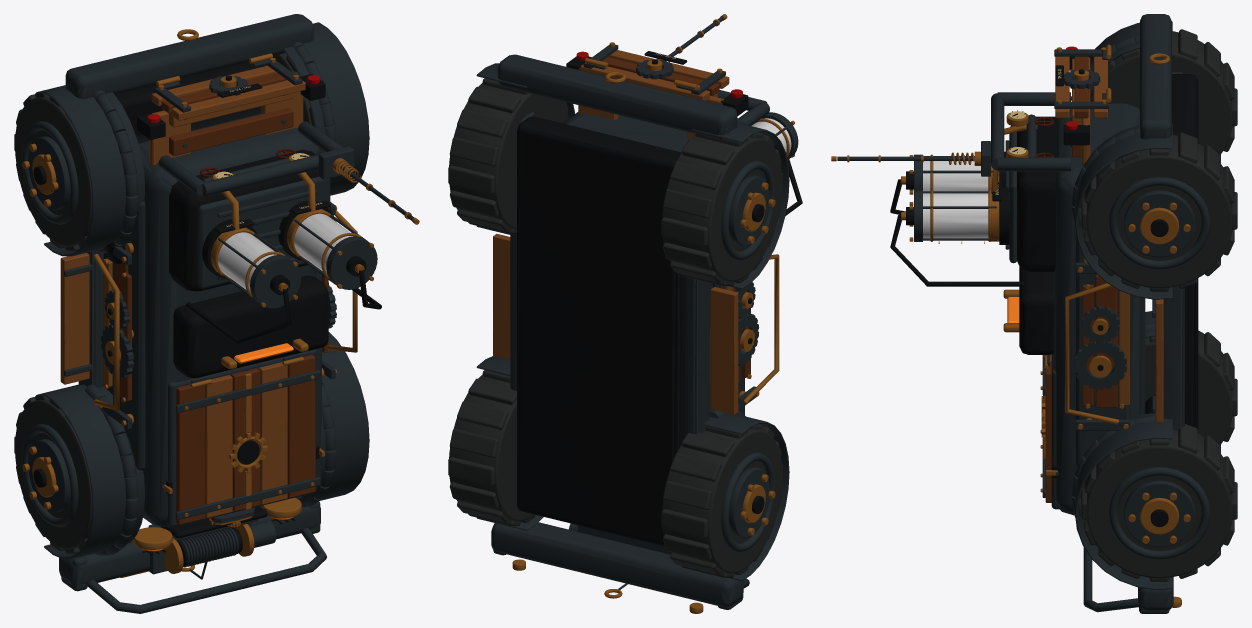
Rendered from IronTeethRcCar_V3.obj.
The picture shows the model from 3 angles, left to right: view 1: azimuth 30°, elevation 25°; view 2: azimuth 150°, elevation 25°; view 3: azimuth 270°, elevation 25°; orthographic projection. The views are drawn at different scales.
Visible parts, largest first — view 1: Armored_body_tub_Armored_body_tub_Mesh, Dashboard_cowl_Dashboard_cowl_Mesh, Rear_forged_bumper_Rear_forged_bumper_Mesh, V3_rolled_fender_V3_rolled_fender, V3_rolled_fender.001_V3_rolled_fender.001, V3_rolled_fender.003_V3_rolled_fender.003, V3_rolled_fender.002_V3_rolled_fender.002, Front_tyre_Front_tyre_Mesh, Rear_tyre_Rear_tyre_Mesh, Rear_gearbox_housing_Rear_gearbox_housing_Mesh, Side_armour_plate_Side_armour_plate_Mesh, Gearbox_top_plate_Gearbox_top_plate_Mesh (+46 smaller); view 2: Ladder_chassis_Ladder_chassis_Mesh, Front_forged_bumper_Front_forged_bumper_Mesh, Rear_forged_bumper_Rear_forged_bumper_Mesh, Rear_tyre_Rear_tyre_Mesh, Front_tyre_Front_tyre_Mesh, Rear_tyre.001_Rear_tyre_Mesh.001, Front_tyre.001_Front_tyre_Mesh.001, Frame_side_rail_Frame_side_rail_Mesh, V3_timber_running_board_Cube.037, Armored_body_tub_Armored_body_tub_Mesh, V3_timber_running_board.001_Cube.040, V3_rolled_fender_V3_rolled_fender (+41 smaller); view 3: Armored_body_tub_Armored_body_tub_Mesh, Rear_tyre.001_Rear_tyre_Mesh.001, Front_tyre.001_Front_tyre_Mesh.001, Rear_gearbox_housing_Rear_gearbox_housing_Mesh, Rear_tyre_Rear_tyre_Mesh, Rear_forged_bumper_Rear_forged_bumper_Mesh, Ladder_chassis_Ladder_chassis_Mesh, Front_tyre_Front_tyre_Mesh, V3_rolled_fender.002_V3_rolled_fender.002, V3_rolled_fender.003_V3_rolled_fender.003, Dashboard_cowl_Dashboard_cowl_Mesh, Frame_side_rail.001_Frame_side_rail_Mesh.001 (+31 smaller).
Part boxes in pixels (x1,y1,x2,y2): Armored_body_tub_Armored_body_tub_Mesh: (138, 112, 320, 526); Dashboard_cowl_Dashboard_cowl_Mesh: (173, 275, 328, 378); Rear_forged_bumper_Rear_forged_bumper_Mesh: (65, 14, 314, 98); V3_rolled_fender_V3_rolled_fender: (44, 384, 144, 558); V3_rolled_fender.001_V3_rolled_fender.001: (44, 86, 144, 256); V3_rolled_fender.003_V3_rolled_fender.003: (283, 22, 369, 195); V3_rolled_fender.002_V3_rolled_fender.002: (301, 332, 369, 505); Front_tyre_Front_tyre_Mesh: (15, 399, 92, 549); Rear_tyre_Rear_tyre_Mesh: (15, 97, 92, 246); Rear_gearbox_housing_Rear_gearbox_housing_Mesh: (169, 149, 330, 291); Side_armour_plate_Side_armour_plate_Mesh: (113, 202, 145, 470); Gearbox_top_plate_Gearbox_top_plate_Mesh: (198, 176, 330, 288); Ladder_chassis_Ladder_chassis_Mesh: (517, 116, 685, 546); Front_forged_bumper_Front_forged_bumper_Mesh: (491, 522, 743, 607); Rear_forged_bumper_Rear_forged_bumper_Mesh: (497, 54, 737, 139); Rear_tyre_Rear_tyre_Mesh: (662, 135, 782, 281); Front_tyre_Front_tyre_Mesh: (662, 429, 782, 573); Rear_tyre.001_Rear_tyre_Mesh.001: (449, 83, 568, 229); Front_tyre.001_Front_tyre_Mesh.001: (449, 375, 533, 521); Frame_side_rail_Frame_side_rail_Mesh: (685, 277, 709, 435); V3_timber_running_board_Cube.037: (710, 287, 738, 414); Armored_body_tub_Armored_body_tub_Mesh: (563, 112, 712, 409); V3_timber_running_board.001_Cube.040: (493, 234, 510, 359); V3_rolled_fender_V3_rolled_fender: (703, 410, 789, 580); Armored_body_tub_Armored_body_tub_Mesh: (1053, 103, 1145, 515); Rear_tyre.001_Rear_tyre_Mesh.001: (1086, 134, 1232, 288); Front_tyre.001_Front_tyre_Mesh.001: (1086, 429, 1232, 578); Rear_gearbox_housing_Rear_gearbox_housing_Mesh: (1017, 116, 1056, 271); Rear_tyre_Rear_tyre_Mesh: (1090, 31, 1232, 155); Rear_forged_bumper_Rear_forged_bumper_Mesh: (1140, 14, 1171, 139); Ladder_chassis_Ladder_chassis_Mesh: (1172, 74, 1198, 433); Front_tyre_Front_tyre_Mesh: (1145, 330, 1232, 445); V3_rolled_fender.002_V3_rolled_fender.002: (1075, 413, 1172, 589); V3_rolled_fender.003_V3_rolled_fender.003: (1075, 123, 1172, 299); Dashboard_cowl_Dashboard_cowl_Mesh: (1019, 266, 1054, 354); Frame_side_rail.001_Frame_side_rail_Mesh.001: (1163, 286, 1184, 430).
Size of the model in its own units: 0.882 by 1.51 by 1.08.
